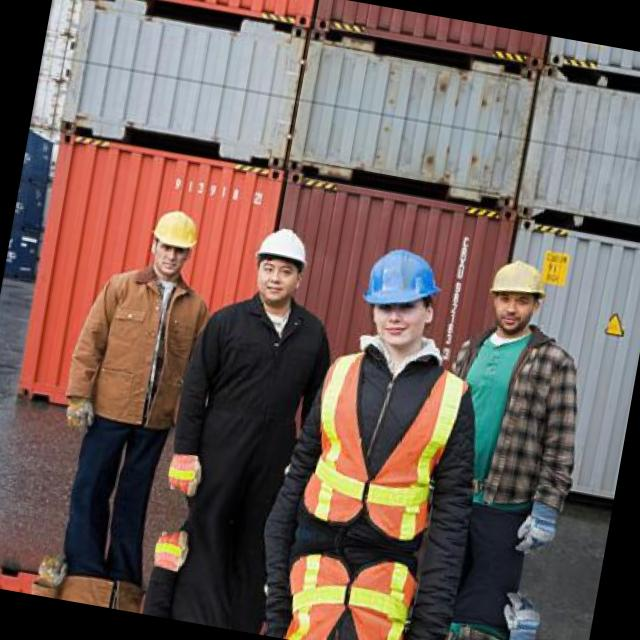helmet: (344, 233, 456, 354), (238, 214, 322, 314), (476, 248, 558, 342), (141, 198, 206, 281)
